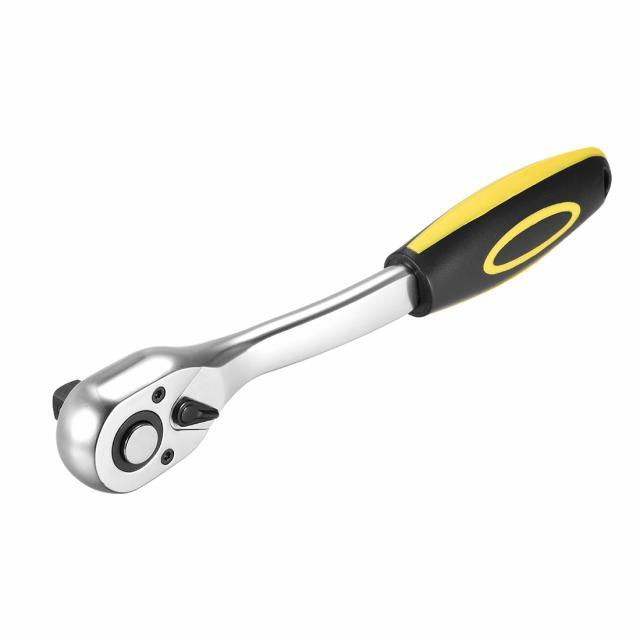wrench: (47, 140, 617, 500)
